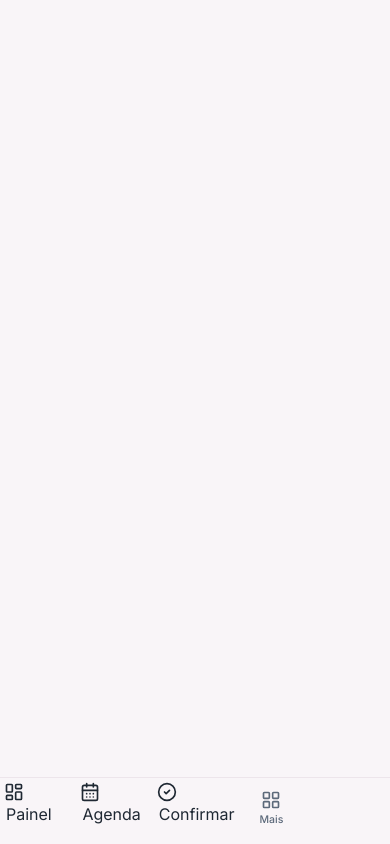
it: BottomNav — acessibilidade (axe) › botão "Mais" alterna aria-expanded=true ao abrir o sheet
This screenshot has width=390, height=844.
Click the button with aria-label "mais opções": click(271, 809) [233,782,310,836]
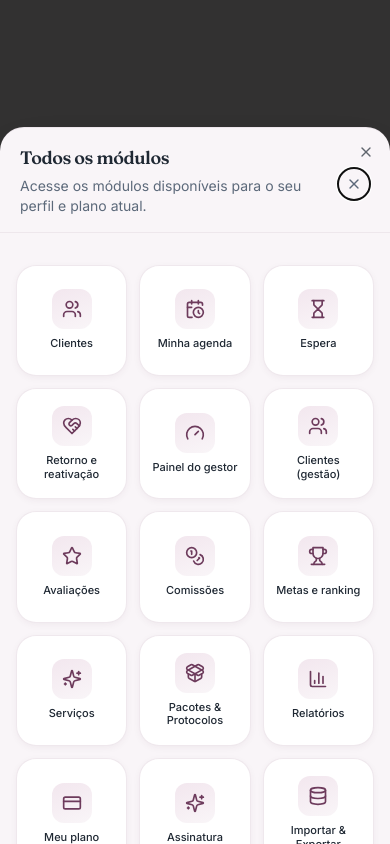
Check: the button with aria-label "mais opções" is expanded, box [233,782,310,836]
